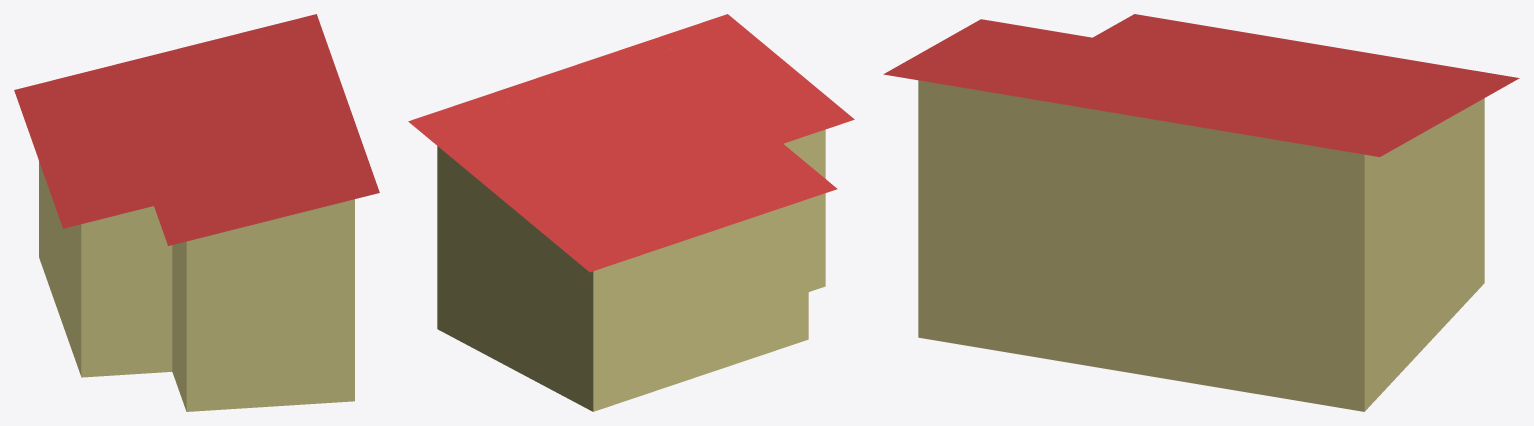
3 renders of one model, left to right at view 1: azimuth 30°, elevation 25°; view 2: azimuth 150°, elevation 25°; view 3: azimuth 270°, elevation 25°, orthographic. The views are drawn at different scales.
Size of the model in its own units: 18.6 by 23.35 by 10.91.
